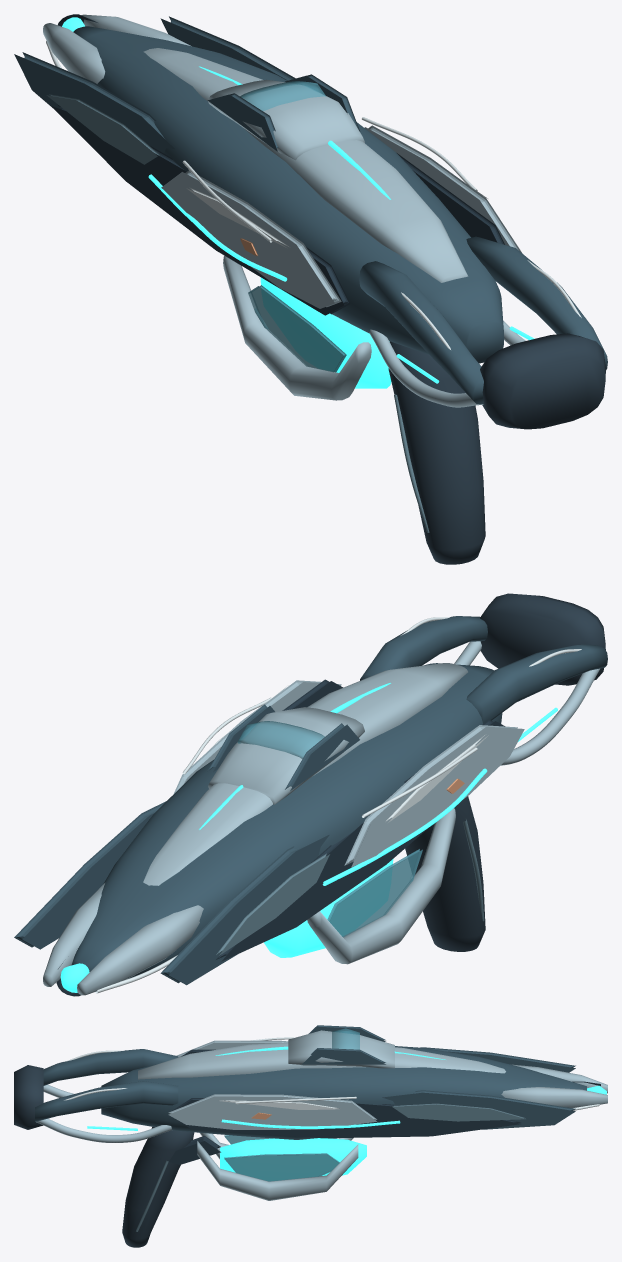
Rendered from aether-s9-vesper-sculpt.glb.
3 views of the same model, one above another, from view 1: azimuth 30°, elevation 25°; view 2: azimuth 150°, elevation 25°; view 3: azimuth 270°, elevation 25° (orthographic). The views are drawn at different scales.
Parts seen in each view (by area): view 1: 01 / VESPER sculpted ceramic monocoque, 02 / continuous titanium flight crest, 09 / curved carbon aesthetic grip, 07 / round rear termination, LEFT / floating swept shoulder blade, 10 / flush integrated vision crown, LEFT / crescent cradle underneath prism, LEFT / continuous rear arc, RIGHT / continuous rear arc, LEFT / recessed long flank groove, LEFT / front tapered scythe fin, LEFT / transparent capsule cheek (+12 smaller); view 2: 01 / VESPER sculpted ceramic monocoque, 02 / continuous titanium flight crest, LEFT / floating swept shoulder blade, 10 / flush integrated vision crown, 07 / round rear termination, 09 / curved carbon aesthetic grip, LEFT / crescent cradle underneath prism, LEFT / front tapered scythe fin, LEFT / continuous rear arc, LEFT / recessed long flank groove, RIGHT / front tapered scythe fin, LEFT / split-petal swept prow (+14 smaller); view 3: 01 / VESPER sculpted ceramic monocoque, 02 / continuous titanium flight crest, RIGHT / floating swept shoulder blade, 09 / curved carbon aesthetic grip, RIGHT / recessed long flank groove, RIGHT / continuous rear arc, RIGHT / front tapered scythe fin, RIGHT / crescent cradle underneath prism, 08 / levitating cyan luminous capsule, RIGHT / transparent capsule cheek, 10 / flush integrated vision crown, LEFT / continuous rear arc (+14 smaller).
Boxes of the visible parts, x1=… form: 01 / VESPER sculpted ceramic monocoque: x1=73, y1=26, x2=504, y2=363; 02 / continuous titanium flight crest: x1=143, y1=48, x2=468, y2=282; 09 / curved carbon aesthetic grip: x1=388, y1=341, x2=485, y2=564; 07 / round rear termination: x1=480, y1=333, x2=605, y2=429; LEFT / floating swept shoulder blade: x1=161, y1=170, x2=341, y2=308; 10 / flush integrated vision crown: x1=208, y1=79, x2=364, y2=160; LEFT / crescent cradle underneath prism: x1=223, y1=255, x2=371, y2=400; LEFT / continuous rear arc: x1=359, y1=261, x2=483, y2=404; RIGHT / continuous rear arc: x1=466, y1=236, x2=607, y2=369; LEFT / recessed long flank groove: x1=51, y1=104, x2=350, y2=315; LEFT / front tapered scythe fin: x1=14, y1=52, x2=174, y2=153; LEFT / transparent capsule cheek: x1=248, y1=285, x2=346, y2=372; 01 / VESPER sculpted ceramic monocoque: x1=71, y1=663, x2=502, y2=978; 02 / continuous titanium flight crest: x1=143, y1=663, x2=467, y2=885; LEFT / floating swept shoulder blade: x1=344, y1=725, x2=524, y2=867; 10 / flush integrated vision crown: x1=208, y1=707, x2=364, y2=804; 07 / round rear termination: x1=480, y1=593, x2=605, y2=685; 09 / curved carbon aesthetic grip: x1=405, y1=796, x2=485, y2=951; LEFT / crescent cradle underneath prism: x1=307, y1=808, x2=455, y2=964; LEFT / front tapered scythe fin: x1=160, y1=835, x2=329, y2=985; LEFT / continuous rear arc: x1=466, y1=644, x2=607, y2=723; LEFT / recessed long flank groove: x1=216, y1=719, x2=505, y2=961; RIGHT / front tapered scythe fin: x1=14, y1=801, x2=166, y2=949; LEFT / split-petal swept prow: x1=77, y1=905, x2=203, y2=995; 01 / VESPER sculpted ceramic monocoque: x1=101, y1=1046, x2=586, y2=1139; 02 / continuous titanium flight crest: x1=138, y1=1042, x2=505, y2=1079; RIGHT / floating swept shoulder blade: x1=168, y1=1094, x2=376, y2=1129; 09 / curved carbon aesthetic grip: x1=122, y1=1127, x2=194, y2=1247; RIGHT / recessed long flank groove: x1=171, y1=1098, x2=521, y2=1138; RIGHT / continuous rear arc: x1=35, y1=1081, x2=178, y2=1121; RIGHT / front tapered scythe fin: x1=382, y1=1090, x2=575, y2=1129; RIGHT / crescent cradle underneath prism: x1=197, y1=1141, x2=358, y2=1200; 08 / levitating cyan luminous capsule: x1=220, y1=1138, x2=366, y2=1175; RIGHT / transparent capsule cheek: x1=224, y1=1153, x2=339, y2=1181; 10 / flush integrated vision crown: x1=288, y1=1030, x2=394, y2=1068; LEFT / continuous rear arc: x1=43, y1=1049, x2=178, y2=1085.
Size of the model in its own units: 0.862 by 1.3 by 3.4.
